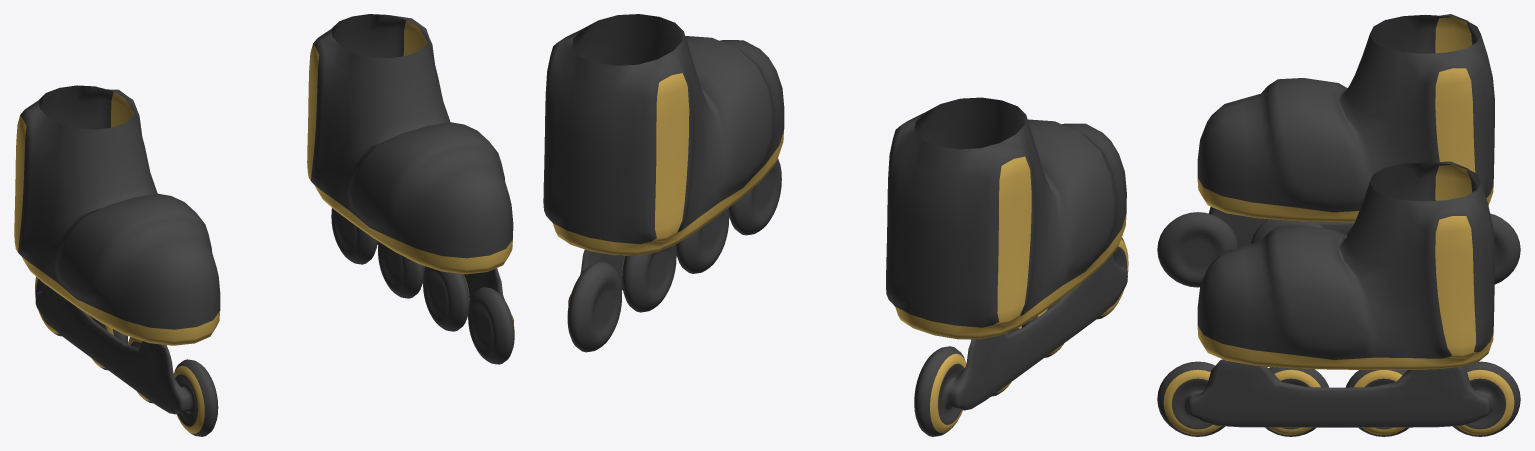
3 renders of one model, left to right at view 1: azimuth 30°, elevation 25°; view 2: azimuth 150°, elevation 25°; view 3: azimuth 270°, elevation 25°, orthographic. The views are drawn at different scales.
Parts seen in each view (by area): view 1: rollerblade; view 2: rollerblade; view 3: rollerblade.
Boxes of the visible parts, bbox=[...] form: rollerblade: bbox=[14, 14, 514, 436]; rollerblade: bbox=[543, 14, 1128, 436]; rollerblade: bbox=[1157, 14, 1520, 436].
Bounding box in the file's own units: 0.6889 × 0.3914 × 0.5083.
